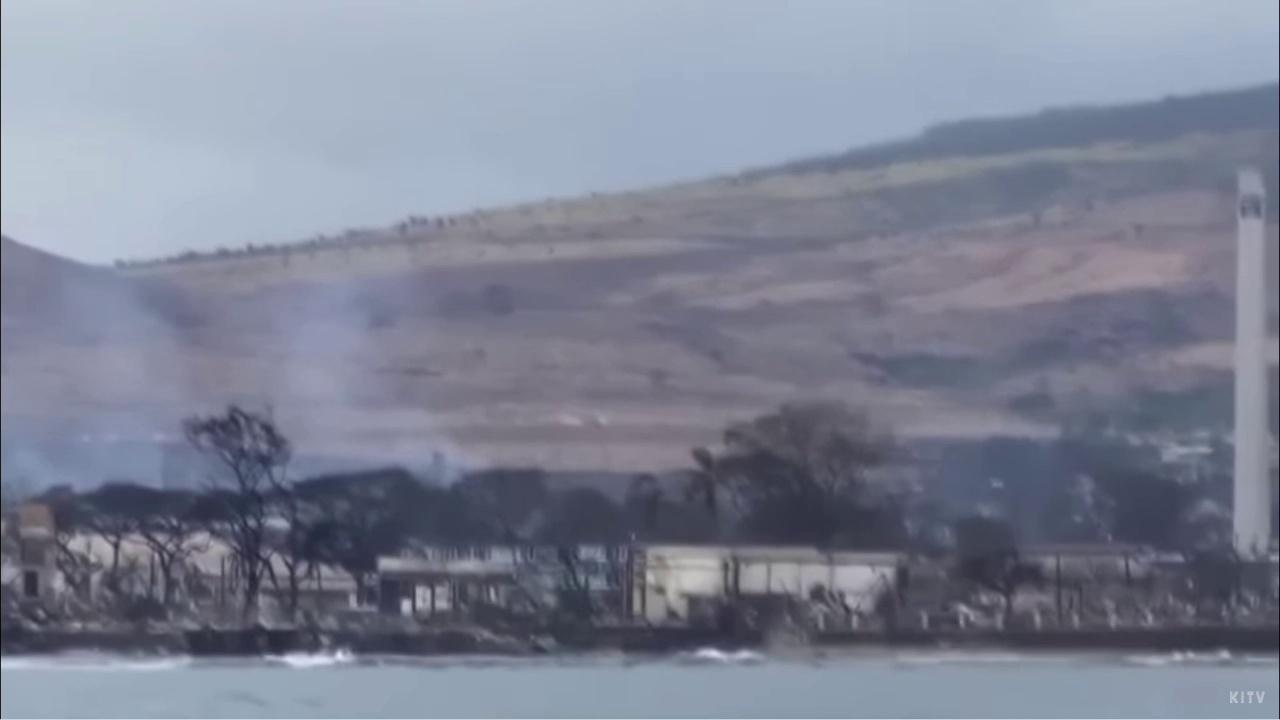smoke: (0, 235, 496, 491)
